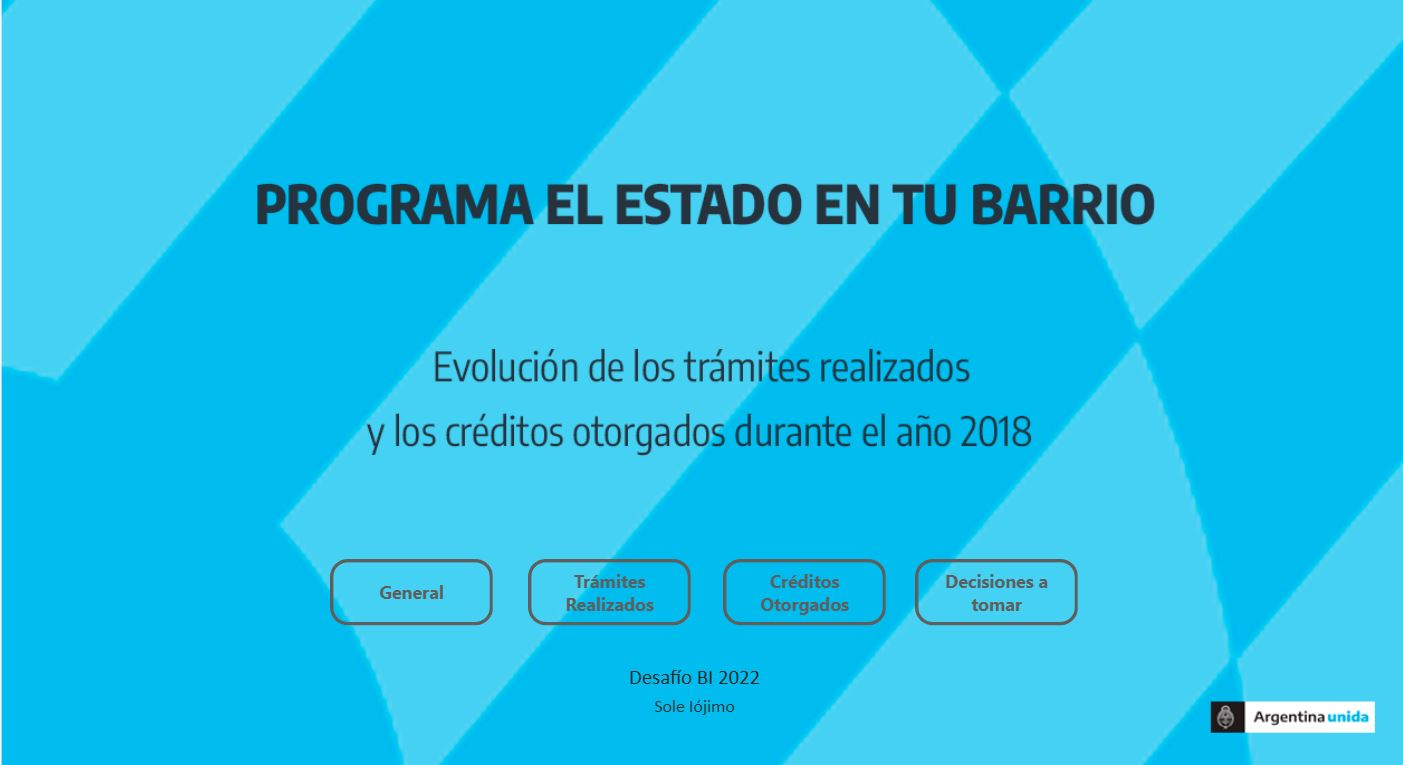

What the dashboard file says about the page in this screenshot:
{"tool":"powerbi","page":{"name":"Portada","canvas":[1280,720],"ordinal":0},"visuals":[{"type":"image","box":[9.9,0,1270.3,720],"z":0},{"type":"actionButton","title":"Trámites","box":[487.2,517.9,146.4,59.5],"z":1000},{"type":"actionButton","title":"Trámites","box":[662.2,517.9,146.4,59.5],"z":2000},{"type":"actionButton","title":"Trámites","box":[309.8,517.9,146.4,59.5],"z":3000},{"type":"actionButton","title":"Trámites","box":[834.8,517.9,146.4,59.5],"z":4000},{"type":"textbox","title":"Desafío BI 2022","box":[560.2,612.3,153.5,73.6],"z":5000}]}

Visuals, with their boxes on the page's 1280x720 design canvas (x1, y1, x2, y2). These are canvas units, not pixel positions in the 1403x765 screenshot, which may show the page scaled, cropped or inside an application window:
image: bbox=[10, 0, 1280, 720]
"Trámites" actionButton: bbox=[487, 518, 634, 577]
"Trámites" actionButton: bbox=[662, 518, 809, 577]
"Trámites" actionButton: bbox=[310, 518, 456, 577]
"Trámites" actionButton: bbox=[835, 518, 981, 577]
"Desafío BI 2022" textbox: bbox=[560, 612, 714, 686]
